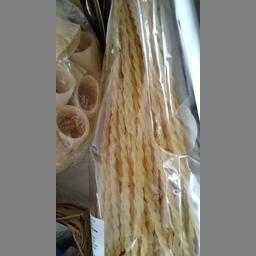pasta: (97, 0, 194, 255)
